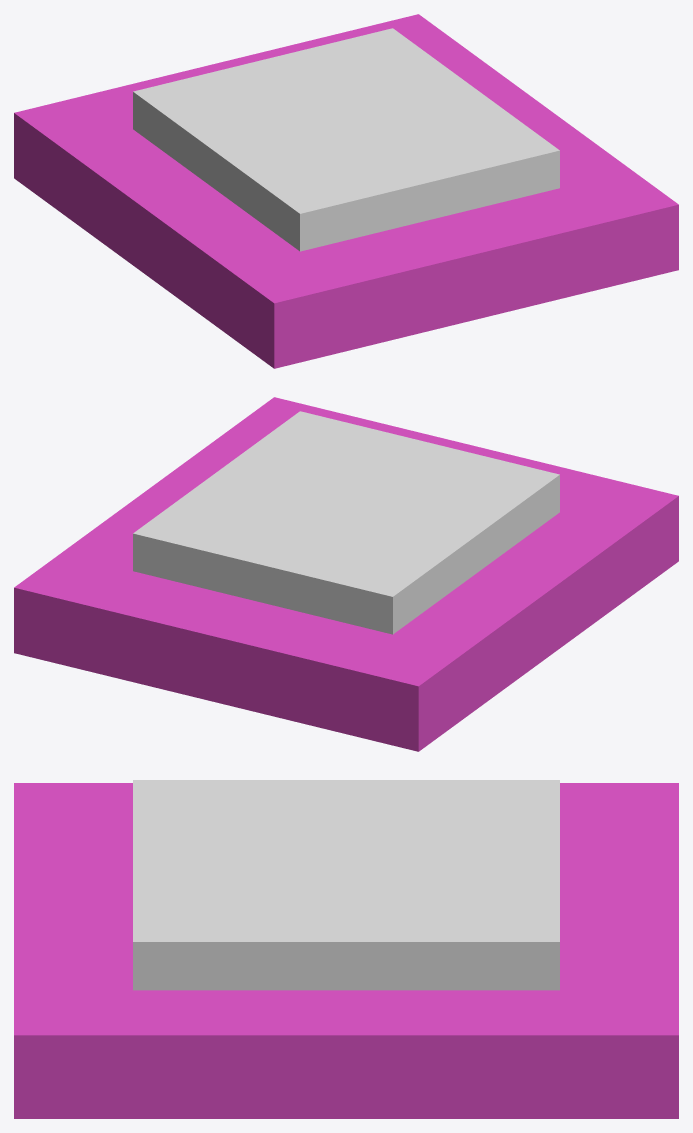
The picture shows the model from 3 angles, top to bottom: view 1: azimuth 30°, elevation 25°; view 2: azimuth 150°, elevation 25°; view 3: azimuth 270°, elevation 25°; orthographic projection. The views are drawn at different scales.
Visible parts, largest first — view 1: Cube, Cube.001; view 2: Cube, Cube.001; view 3: Cube, Cube.001.
Part boxes in pixels (bbox=[...]): Cube: bbox=[14, 14, 678, 368]; Cube.001: bbox=[133, 28, 559, 251]; Cube: bbox=[14, 397, 678, 751]; Cube.001: bbox=[133, 411, 559, 634]; Cube: bbox=[14, 783, 678, 1118]; Cube.001: bbox=[133, 780, 559, 990].
Size of the model in its own units: 3.11 by 0.7588 by 3.47.
